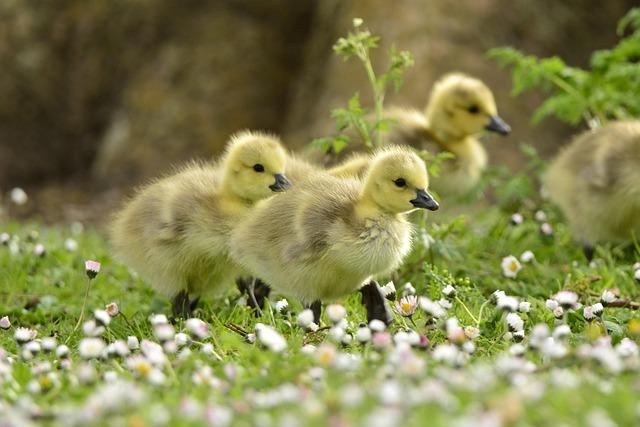Non_Gorille: (103, 10, 538, 365)
